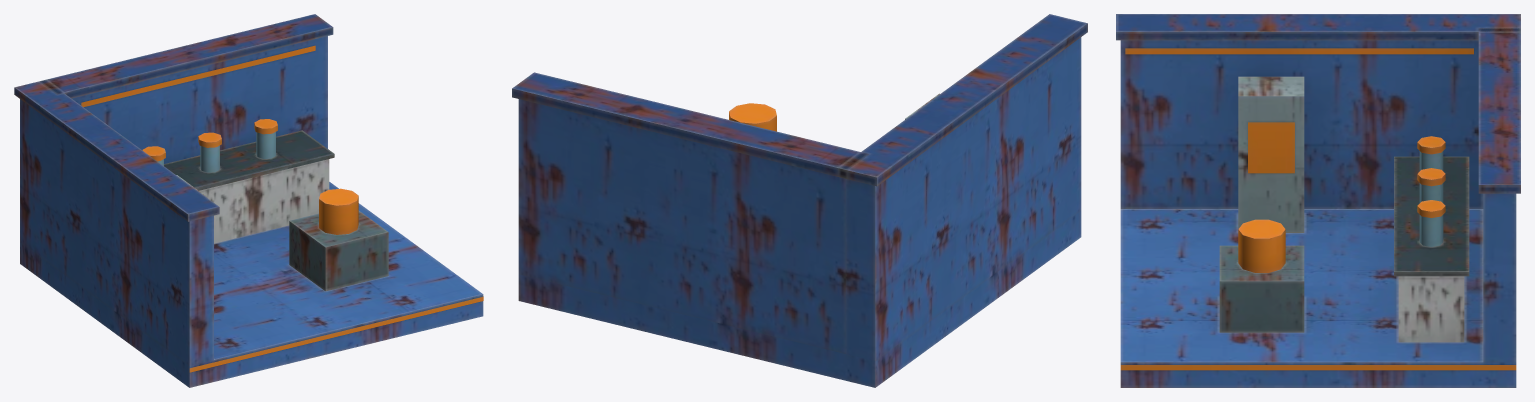
Rendered from chemistry_lab.glb.
The picture shows the model from 3 angles, left to right: view 1: azimuth 30°, elevation 25°; view 2: azimuth 150°, elevation 25°; view 3: azimuth 270°, elevation 25°; orthographic projection. The views are drawn at different scales.
Visible parts, largest first — view 1: te_chemistry_lab; view 2: te_chemistry_lab; view 3: te_chemistry_lab.
Part boxes in pixels (x1=…): te_chemistry_lab: x1=14, y1=14, x2=483, y2=387; te_chemistry_lab: x1=512, y1=14, x2=1087, y2=387; te_chemistry_lab: x1=1116, y1=14, x2=1520, y2=387.
Bounding box in the file's own units: 0.86 × 0.48 × 0.86.
Materials: 1 (1 with a texture image).
